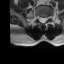CCS_normal: (41, 15, 44, 24)
LFS_normal: (47, 14, 50, 21)
LLS_normal: (44, 15, 47, 23)
RFS_normal: (36, 11, 39, 22)
RLS_normal: (39, 14, 41, 23)
